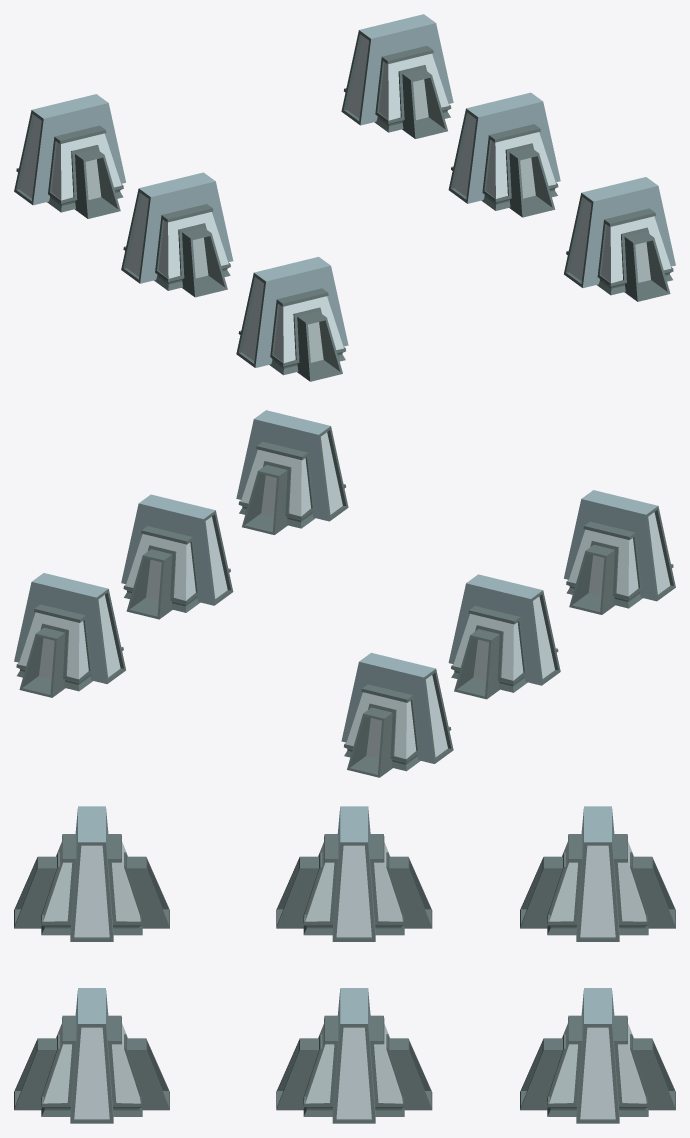
Rendered from Ascensores_recepcion.fbx.
3 renders of one model, top to bottom at view 1: azimuth 30°, elevation 25°; view 2: azimuth 150°, elevation 25°; view 3: azimuth 270°, elevation 25°, orthographic. The views are drawn at different scales.
Visible parts, largest first — view 1: Cube.099; view 2: Cube.099; view 3: Cube.099.
Part boxes in pixels (left/top/right/bottom): Cube.099: left=14, top=14, right=675, bottom=381; Cube.099: left=14, top=410, right=675, bottom=777; Cube.099: left=14, top=806, right=675, bottom=1123.
Bounding box in the file's own units: 7761 × 1474 × 9294.
